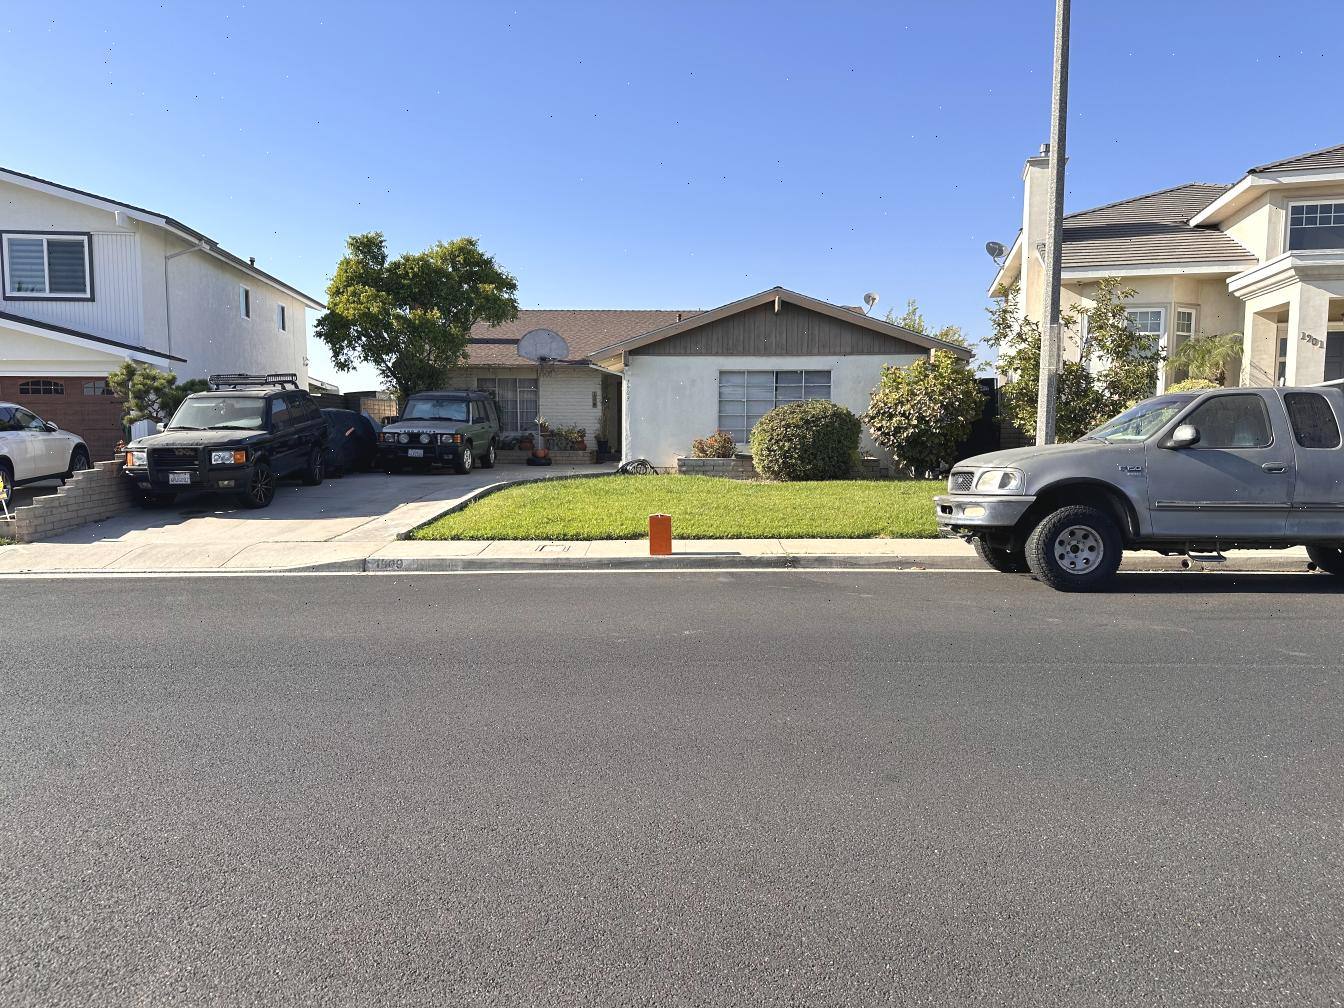curbs-laRr: (415, 557, 939, 573)
orange box: (650, 515, 672, 556)
